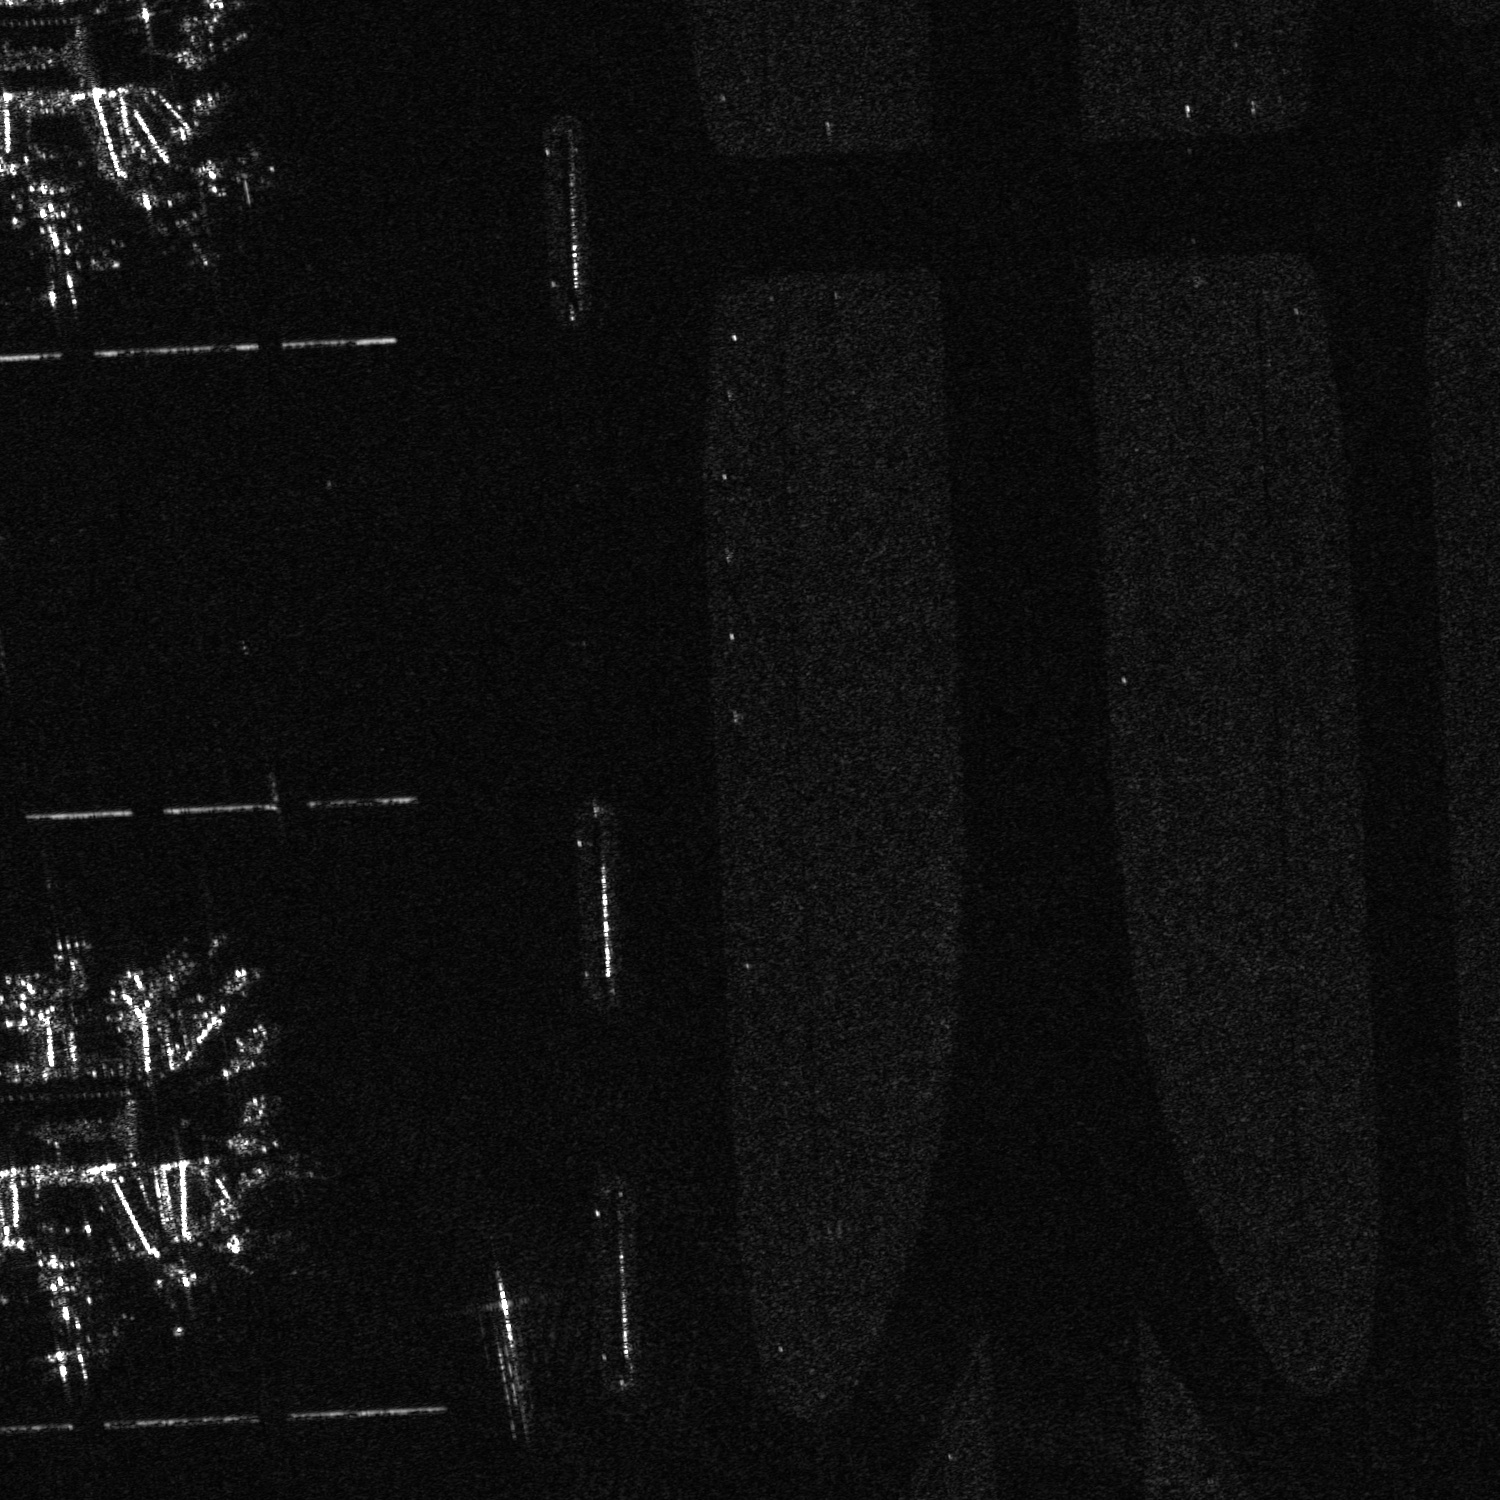A320/321: (15, 194, 96, 310), (173, 135, 284, 217)
Boeing737: (130, 183, 227, 268), (146, 1253, 214, 1342)
other: (27, 1271, 115, 1387)
